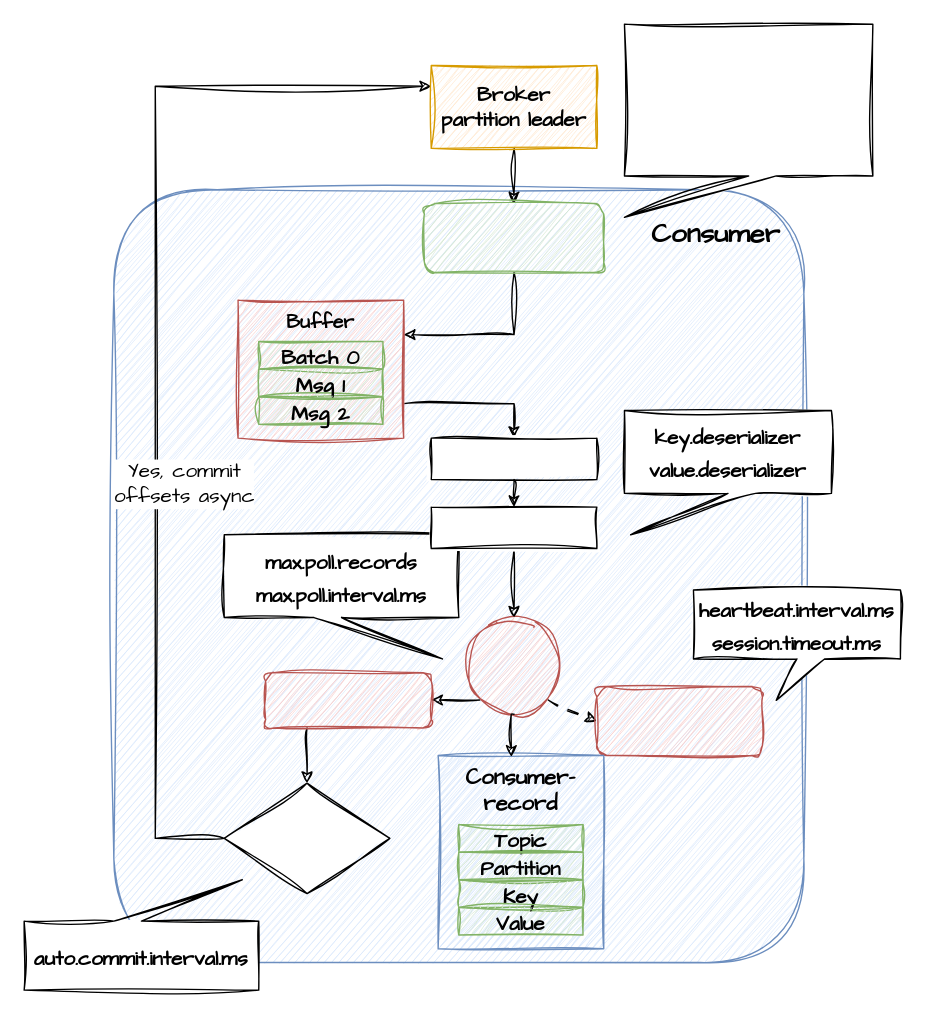
Some shapes in this 925 by 1014 pixel diagram are drawn without their labels. Each missing label, with the centre of its shape:
Autocommit?: point 306,838
Commit Offsets: point 347,699
Decompress: point 513,458
Deserializer: point 513,527
fetch.min.bytes fetch.max.bytes fetch.max.wait.ms max.partition.fetch.bytes: point 748,120
Fetcher I/O Threads: point 513,237
heartbeats/ coordinator: point 678,720
Poll Loop: point 513,665
